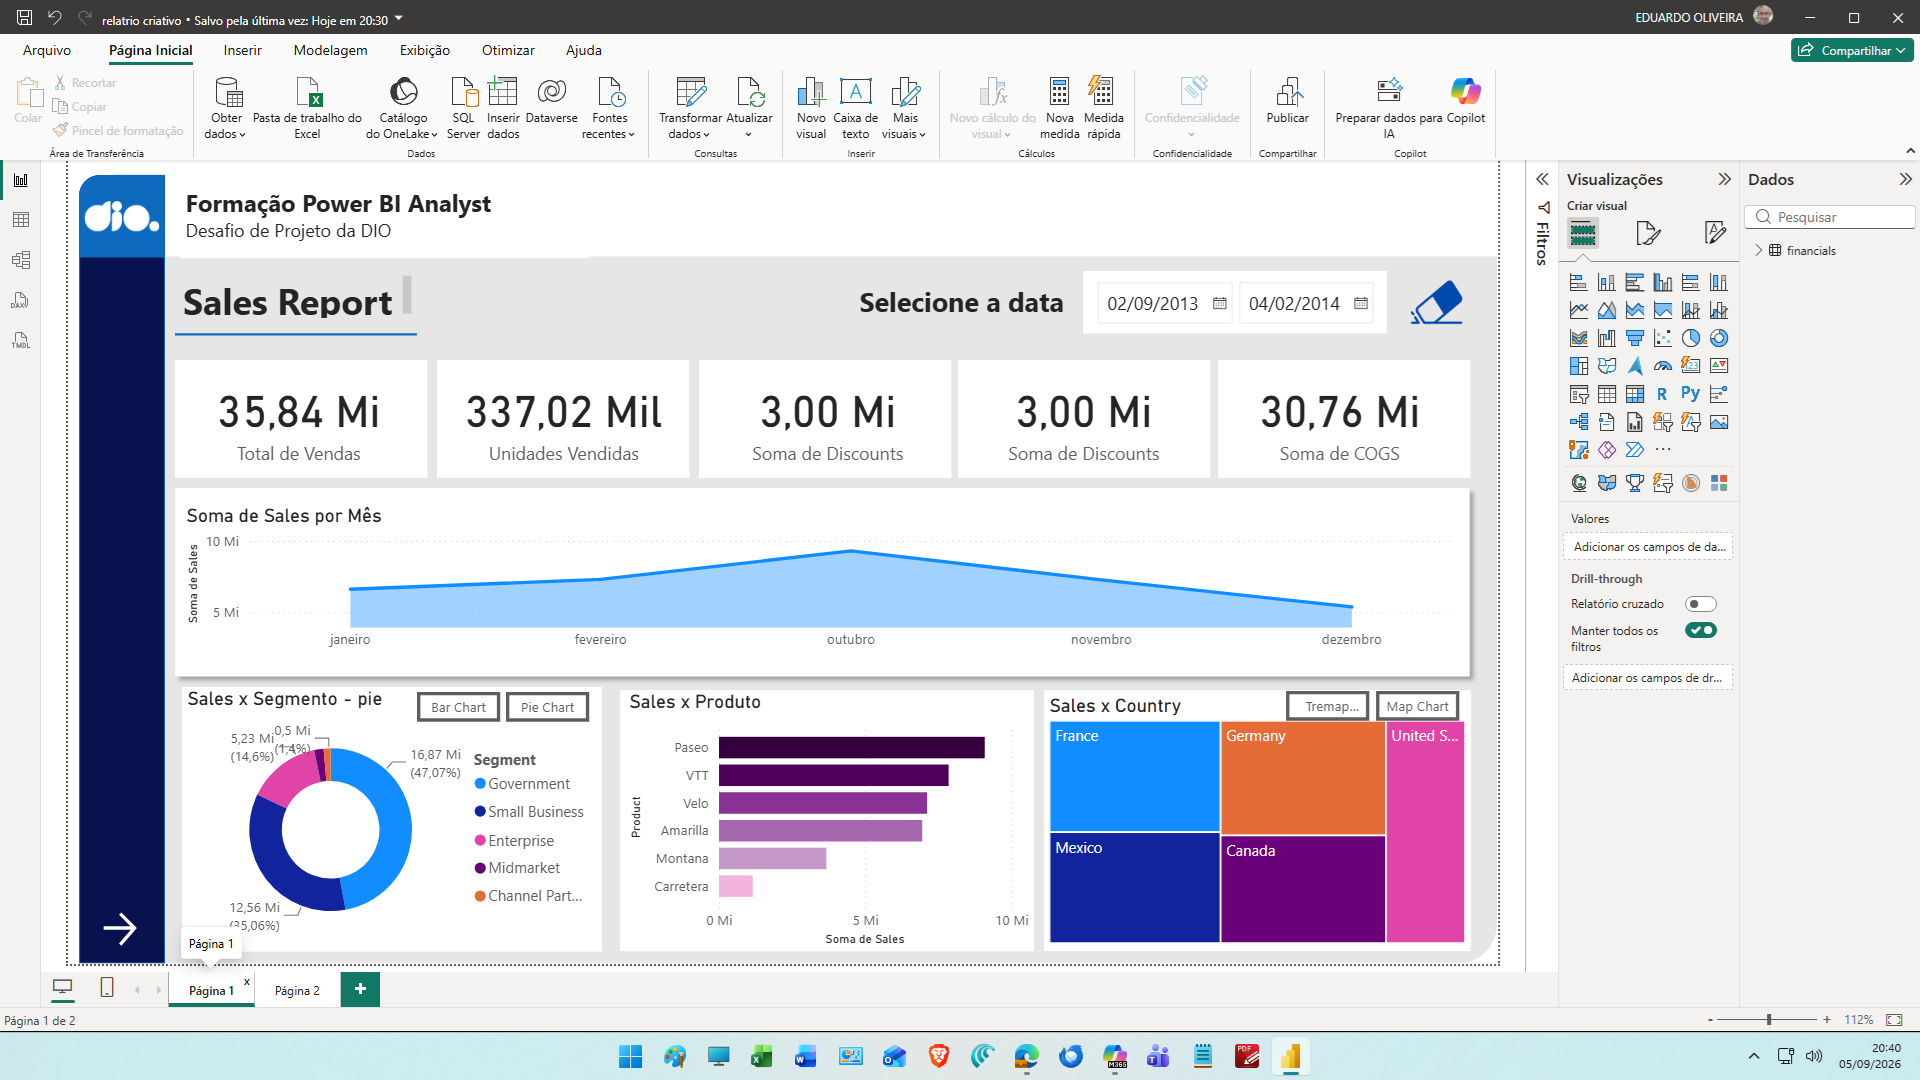

What the dashboard file says about the page in this screenshot:
{"tool":"powerbi","page":{"name":"Página 1","canvas":[1280,720],"ordinal":0},"visuals":[{"type":"shape","box":[10,12.8,1270,707],"z":0},{"type":"slicer","fields":{"Values":["financials.Date"]},"box":[909.4,99.8,272.2,55.6],"z":0,"group":"g2"},{"type":"shape","box":[95.5,139.7,216.7,32.8],"z":0,"group":"g5"},{"type":"shape","box":[95.5,179.2,226.5,105.7],"z":0,"group":"g1"},{"type":"donutChart","title":"Sales x Segmento - pie","fields":{"Category":["financials.Segment"],"Y":["Sum(financials. Sales)"]},"box":[102.6,471.8,376.3,236.6],"z":0,"group":"g4"},{"type":"azureMap","title":"Sales x Country","fields":{"Category":["financials.Country"],"Size":["Sum(financials. Sales)"]},"box":[873.8,476,382,228.1],"z":0,"group":"g3"},{"type":"actionButton","title":"Botão - bar","box":[312.8,476.4,74.5,26.6],"z":500,"group":"g4"},{"type":"actionButton","title":"Botão -pie","box":[392.6,476.4,74.5,26.6],"z":750,"group":"g4"},{"type":"shape","box":[10.1,13.4,77.2,706.3],"z":1000},{"type":"textbox","box":[96.9,98.4,215.2,48.5],"z":1000,"group":"g5"},{"type":"textbox","box":[704.1,105.5,199.6,45.6],"z":1000,"group":"g2"},{"type":"shape","box":[330.2,179.2,226.5,105.7],"z":1000,"group":"g1"},{"type":"treemap","title":"Sales x Country","fields":{"Group":["financials.Country"],"Values":["Sum(financials. Sales)"]},"box":[873.8,477.5,382,228.1],"z":1000,"group":"g3"},{"type":"actionButton","title":"Botão - map","box":[1170.8,475.2,74.5,26.6],"z":1250,"group":"g3"},{"type":"actionButton","title":"Botão - tremap","box":[1090.9,475.2,74.5,26.6],"z":1500,"group":"g3"},{"type":"shape","box":[10.1,13.4,77.2,73.8],"z":2000},{"type":"actionButton","box":[1195.9,104.1,59.9,51.3],"z":2000,"group":"g2"},{"type":"shape","box":[565.1,179.2,226.5,105.7],"z":2000,"group":"g1"},{"type":"image","title":"logo_dio","box":[10.1,18.5,77.2,62.1],"z":3000},{"type":"image","title":"clean","box":[1195.9,99.8,59.9,55.6],"z":3000,"group":"g2"},{"type":"shape","box":[796.6,179.2,226.5,105.7],"z":3000,"group":"g1"},{"type":"shape","box":[86.9,12.8,1193.1,74.1],"z":4000},{"type":"shape","box":[1029.7,179.2,226.5,105.7],"z":4000,"group":"g1"},{"type":"textbox","box":[100.7,18.5,365.7,68.8],"z":5000},{"type":"card","fields":{"Values":["Sum(financials. Sales)"]},"box":[101.2,179.6,211,105.5],"z":5000,"group":"g1"},{"type":"group","id":"g1","title":"Cartões","box":[95.5,179.2,1160.7,105.9],"z":6000},{"type":"card","fields":{"Values":["Sum(financials.Units Sold)"]},"box":[337.9,179.6,211,105.5],"z":6000,"group":"g1"},{"type":"card","fields":{"Values":["Sum(financials.Discounts)"]},"box":[804,179.6,211,105.5],"z":7000,"group":"g1"},{"type":"shape","box":[86.9,285.1,1177.4,186.7],"z":7000},{"type":"card","fields":{"Values":["Sum(financials.Discounts)"]},"box":[574.5,179.6,211,105.5],"z":8000,"group":"g1"},{"type":"shape","box":[494.6,474.7,370.6,233.8],"z":8000},{"type":"card","fields":{"Values":["Sum(financials.COGS)"]},"box":[1033.4,179.6,211,105.5],"z":9000,"group":"g1"},{"type":"shape","box":[873.8,474.7,382,233.8],"z":9000},{"type":"areaChart","fields":{"Category":["financials.Date.Variation.Hierarquia de datas.Mês"],"Y":["Sum(financials. Sales)"]},"box":[101.2,307.9,1143.2,139.7],"z":10000},{"type":"clusteredBarChart","title":"Sales x Produto","fields":{"Category":["financials.Product"],"Y":["Sum(financials. Sales)"]},"box":[498.3,474.5,366.9,233.8],"z":11000},{"type":"group","id":"g2","title":"Filtro por data","box":[704.1,99.8,551.6,55.6],"z":12000},{"type":"group","id":"g3","title":"Sales x país","box":[873.8,475.2,382,230.3],"z":13000},{"type":"group","id":"g4","title":"Sales x Segmento","box":[96,471.8,382.9,236.8],"z":14000},{"type":"group","id":"g5","title":"Title report","box":[95.5,98.4,216.7,74.1],"z":15000},{"type":"actionButton","box":[25.9,669,48.8,39.6],"z":16000}]}

Visuals, with their boxes on the page's 1280x720 design canvas (x1, y1, x2, y2). These are canvas units, not pixel positions in the 1920x1080 screenshot, which may show the page scaled, cropped or inside an application window:
shape: (left=10, top=13, right=1280, bottom=720)
slicer - financials.Date: (left=909, top=100, right=1182, bottom=155)
shape: (left=96, top=140, right=312, bottom=172)
shape: (left=96, top=179, right=322, bottom=285)
"Sales x Segmento - pie" donutChart: (left=103, top=472, right=479, bottom=708)
"Sales x Country" azureMap: (left=874, top=476, right=1256, bottom=704)
"Botão - bar" actionButton: (left=313, top=476, right=387, bottom=503)
"Botão -pie" actionButton: (left=393, top=476, right=467, bottom=503)
shape: (left=10, top=13, right=87, bottom=720)
textbox: (left=97, top=98, right=312, bottom=147)
textbox: (left=704, top=106, right=904, bottom=151)
shape: (left=330, top=179, right=557, bottom=285)
"Sales x Country" treemap: (left=874, top=478, right=1256, bottom=706)
"Botão - map" actionButton: (left=1171, top=475, right=1245, bottom=502)
"Botão - tremap" actionButton: (left=1091, top=475, right=1165, bottom=502)
shape: (left=10, top=13, right=87, bottom=87)
actionButton: (left=1196, top=104, right=1256, bottom=155)
shape: (left=565, top=179, right=792, bottom=285)
"logo_dio" image: (left=10, top=18, right=87, bottom=81)
"clean" image: (left=1196, top=100, right=1256, bottom=155)
shape: (left=797, top=179, right=1023, bottom=285)
shape: (left=87, top=13, right=1280, bottom=87)
shape: (left=1030, top=179, right=1256, bottom=285)
textbox: (left=101, top=18, right=466, bottom=87)
card - Sum(financials. Sales): (left=101, top=180, right=312, bottom=285)
"Cartões" group: (left=96, top=179, right=1256, bottom=285)
card - Sum(financials.Units Sold): (left=338, top=180, right=549, bottom=285)
card - Sum(financials.Discounts): (left=804, top=180, right=1015, bottom=285)
shape: (left=87, top=285, right=1264, bottom=472)
card - Sum(financials.Discounts): (left=574, top=180, right=786, bottom=285)
shape: (left=495, top=475, right=865, bottom=708)
card - Sum(financials.COGS): (left=1033, top=180, right=1244, bottom=285)
shape: (left=874, top=475, right=1256, bottom=708)
areaChart - financials.Date.Variation.Hierarquia de datas.Mês x Sum(financials. Sales): (left=101, top=308, right=1244, bottom=448)
"Sales x Produto" clusteredBarChart: (left=498, top=474, right=865, bottom=708)
"Filtro por data" group: (left=704, top=100, right=1256, bottom=155)
"Sales x país" group: (left=874, top=475, right=1256, bottom=706)
"Sales x Segmento" group: (left=96, top=472, right=479, bottom=709)
"Title report" group: (left=96, top=98, right=312, bottom=172)
actionButton: (left=26, top=669, right=75, bottom=709)
